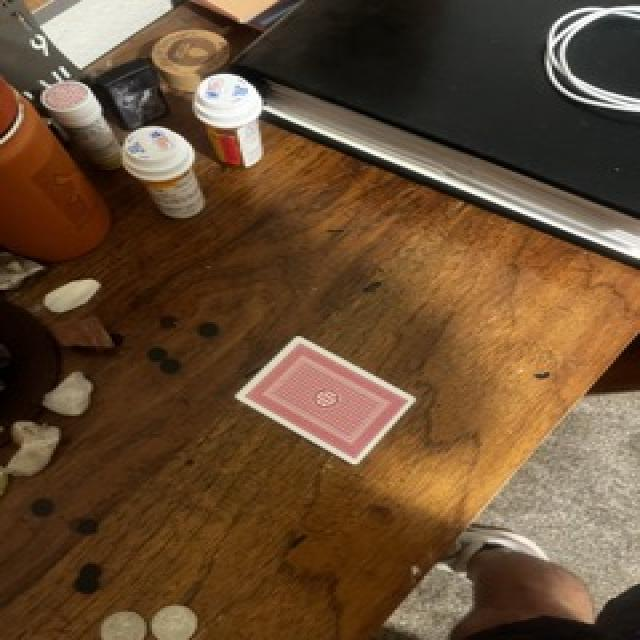card back: (235, 336, 415, 464)
